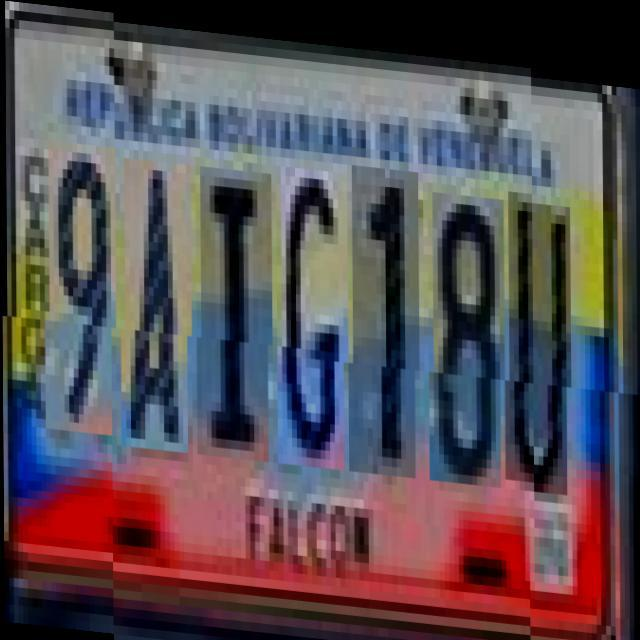1: (352, 157, 419, 469)
8: (432, 182, 505, 477)
9: (48, 148, 116, 442)
A: (124, 155, 192, 449)
G: (280, 160, 348, 463)
I: (200, 162, 272, 456)
U: (508, 180, 571, 473)
